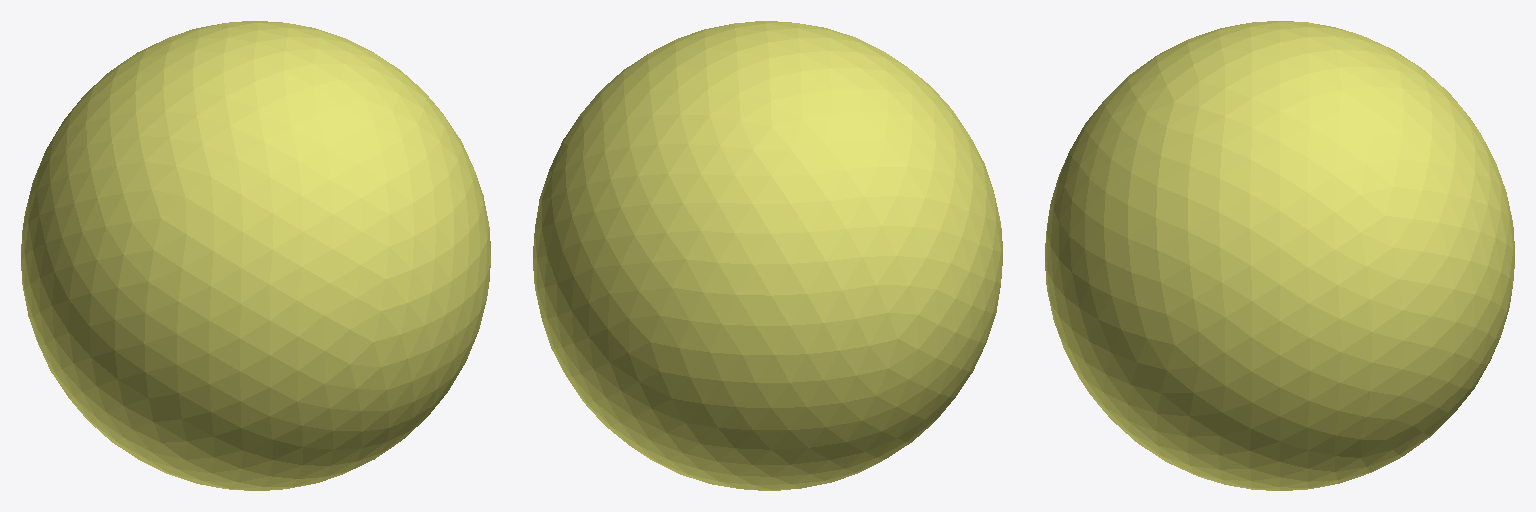
File: geosphere_white_phong.obj
3 renders of one model, left to right at view 1: azimuth 30°, elevation 25°; view 2: azimuth 150°, elevation 25°; view 3: azimuth 270°, elevation 25°, orthographic.
Parts seen in each view (by area): view 1: GeoSphere001; view 2: GeoSphere001; view 3: GeoSphere001.
Part boxes in pixels (left/top/right/bottom): GeoSphere001: left=21, top=21, right=490, bottom=490; GeoSphere001: left=533, top=21, right=1002, bottom=490; GeoSphere001: left=1045, top=21, right=1514, bottom=490.
Bounding box in the file's own units: 2 × 2 × 2.